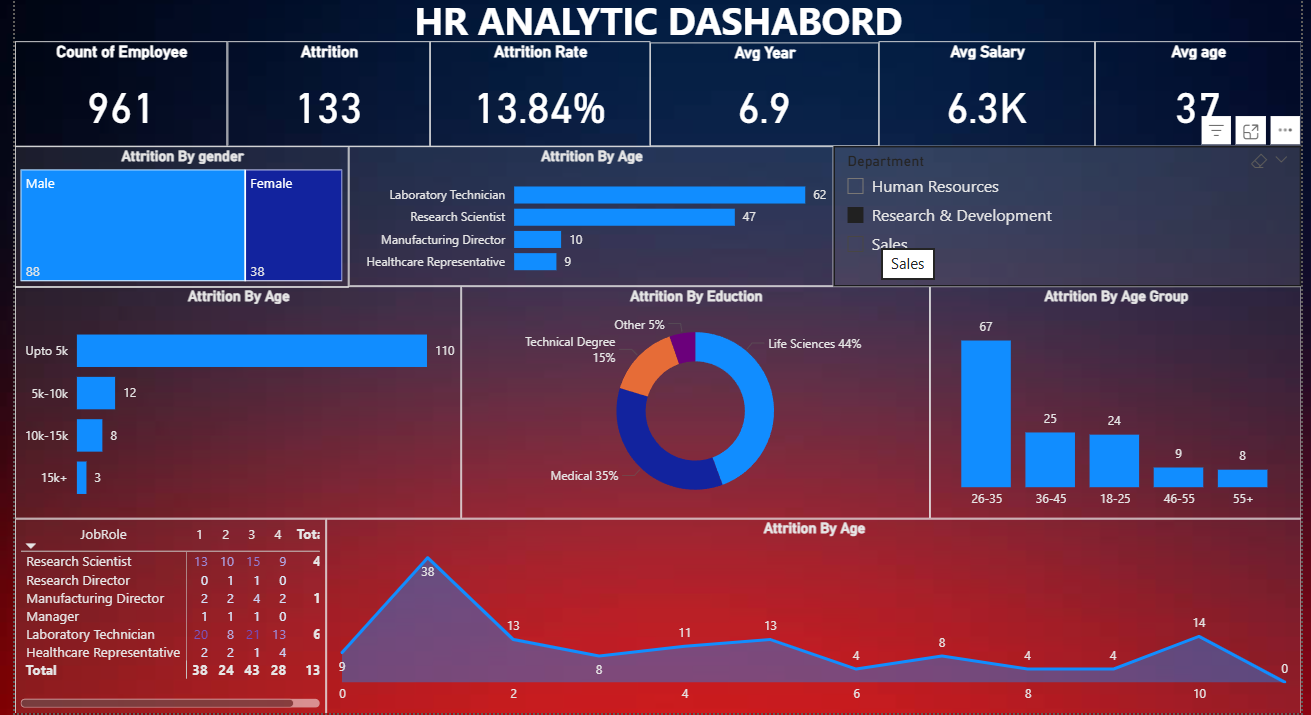

The dashboard page shown, as its layout file describes it:
{"tool":"powerbi","page":{"name":"Page 1","canvas":[1280,720],"ordinal":0},"visuals":[{"type":"card","title":"Count of Employee ","fields":{"Values":["CountNonNull(HR_Analytics.EmpID)"]},"box":[0,51,211.5,104.5],"z":0},{"type":"card","title":"Attrition ","fields":{"Values":["Sum(HR_Analytics.AttritionCount)"]},"box":[211.5,51,201.5,104.5],"z":1000},{"type":"card","title":"Attrition Rate","fields":{"Values":["HR_Analytics.AttritionRate"]},"box":[413,51,218.9,104.5],"z":2000},{"type":"card","title":"Avg age","fields":{"Values":["Avg(HR_Analytics.Age)"]},"box":[1074.8,51,205.3,104.5],"z":3000},{"type":"card","title":"Avg Salary","fields":{"Values":["Avg(HR_Analytics.MonthlyIncome)"]},"box":[859.6,51,215.2,104.5],"z":4000},{"type":"card","title":"Avg Year","fields":{"Values":["Avg(HR_Analytics.YearsAtCompany)"]},"box":[631.9,52.2,227.6,103.2],"z":5000},{"type":"donutChart","title":"Attrition By Eduction","fields":{"Category":["HR_Analytics.EducationField"],"Y":["Sum(HR_Analytics.AttritionCount)"]},"box":[444.1,294.8,466.5,231.4],"z":6000},{"type":"columnChart","title":"Attrition By Age Group","fields":{"Category":["HR_Analytics.AgeGroup"],"Y":["Sum(HR_Analytics.AttritionCount)"]},"box":[910.6,294.8,369.5,231.4],"z":7000},{"type":"pivotTable","fields":{"Rows":["HR_Analytics.JobRole"],"Columns":["HR_Analytics.JobSatisfaction"],"Values":["Sum(HR_Analytics.AttritionCount)"]},"box":[0,526.2,309.7,194.1],"z":8000},{"type":"barChart","title":"Attrition By Age","fields":{"Category":["HR_Analytics.SalarySlab"],"Y":["Sum(HR_Analytics.AttritionCount)"]},"box":[0,294.8,444.1,231.4],"z":9000},{"type":"barChart","title":"Attrition By Age","fields":{"Category":["HR_Analytics.JobRole"],"Y":["Sum(HR_Analytics.AttritionCount)"]},"box":[332.1,155.5,482.7,139.3],"z":10000},{"type":"areaChart","title":"Attrition By Age","fields":{"Category":["HR_Analytics.YearsAtCompany"],"Y":["Sum(HR_Analytics.AttritionCount)"]},"box":[309.7,526.2,970.3,194.1],"z":11000},{"type":"treemap","title":"Attrition By gender","fields":{"Group":["HR_Analytics.Gender"],"Values":["Sum(HR_Analytics.AttritionCount)"]},"box":[0,155.5,332.1,140.6],"z":12000},{"type":"slicer","fields":{"Values":["HR_Analytics.Department"]},"box":[814.8,155.5,465.2,139.3],"z":13000},{"type":"textbox","box":[0,0,1280,63.4],"z":14000}]}

Visuals, with their boxes in screenshot pixels (x1, y1, x2, y2):
"Count of Employee " card: crop(7, 35, 221, 140)
"Attrition " card: crop(221, 35, 425, 140)
"Attrition Rate" card: crop(425, 35, 647, 140)
"Avg age" card: crop(1096, 35, 1304, 140)
"Avg Salary" card: crop(878, 35, 1096, 140)
"Avg Year" card: crop(647, 36, 878, 140)
"Attrition By Eduction" donutChart: crop(457, 282, 929, 516)
"Attrition By Age Group" columnChart: crop(929, 282, 1304, 516)
pivotTable - HR_Analytics.JobRole x HR_Analytics.JobSatisfaction: crop(7, 516, 321, 713)
"Attrition By Age" barChart: crop(7, 282, 457, 516)
"Attrition By Age" barChart: crop(343, 140, 832, 282)
"Attrition By Age" areaChart: crop(321, 516, 1304, 713)
"Attrition By gender" treemap: crop(7, 140, 343, 283)
slicer - HR_Analytics.Department: crop(832, 140, 1304, 282)
textbox: crop(7, 0, 1304, 47)
